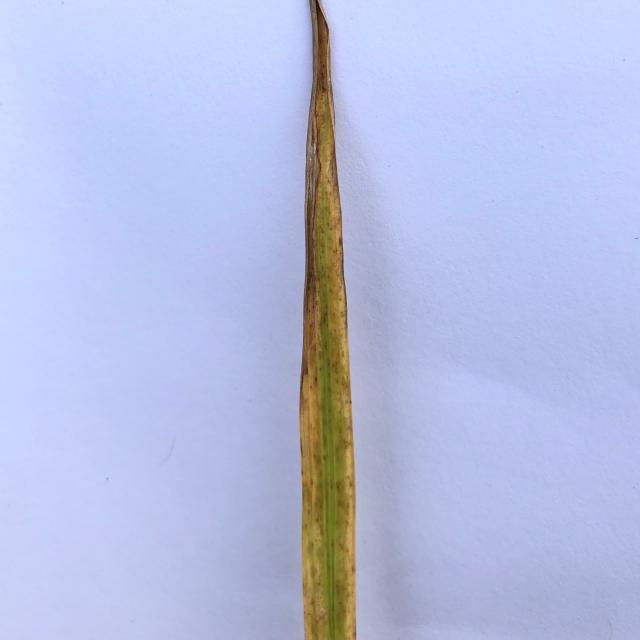Rice Tungro: (232, 1, 416, 640)
